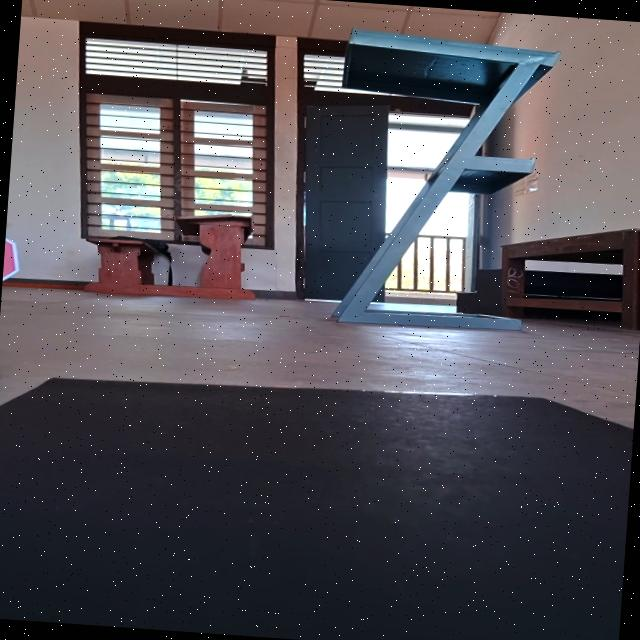Stop: (1, 227, 27, 295)
